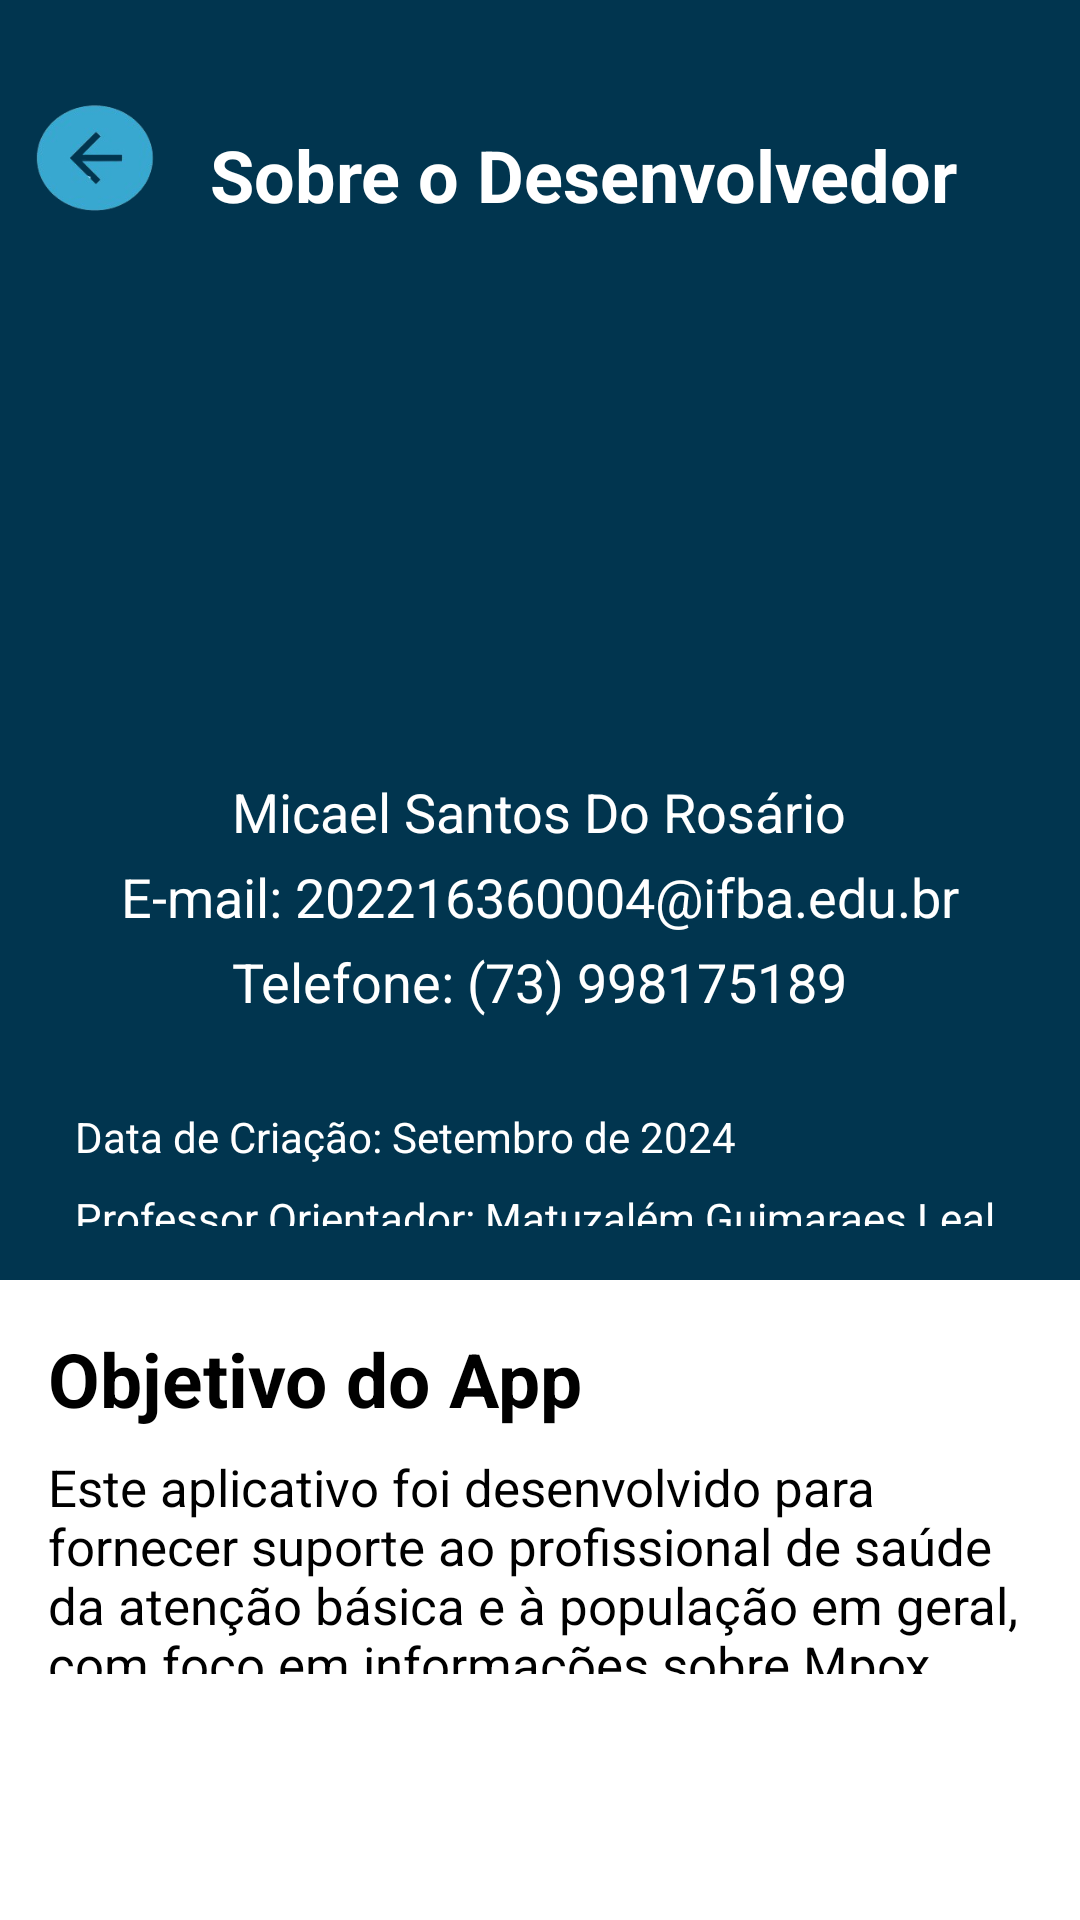

Where to tap for icons on this 1080 x 1920 app screen, as (x=x, y=y):
Imagem de seta retornar: (x=95, y=158)
